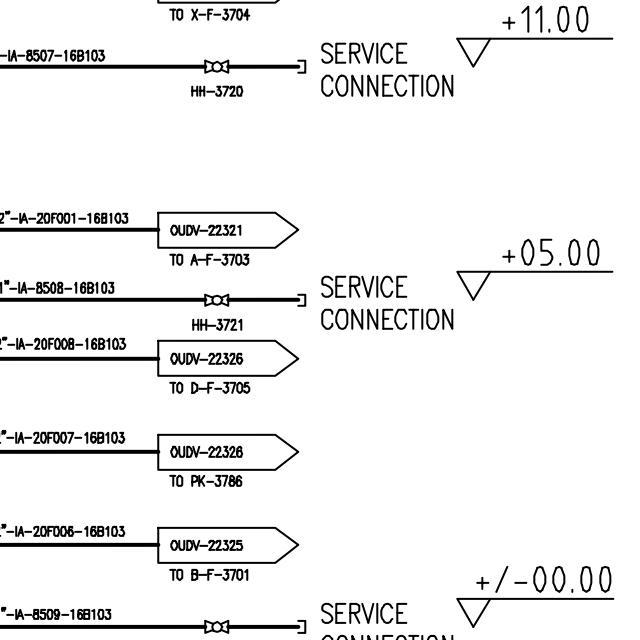BV2: (199, 56, 233, 77), (199, 619, 233, 635), (201, 291, 232, 308)
EJ: (276, 55, 310, 78), (271, 616, 308, 637), (272, 292, 309, 310)
